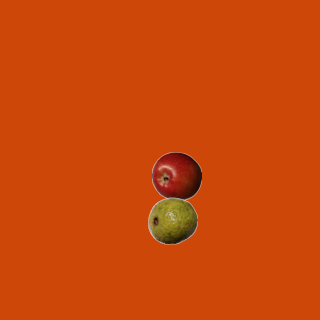Apple Braeburn: (151, 151, 201, 201)
Guava: (147, 195, 197, 245)
